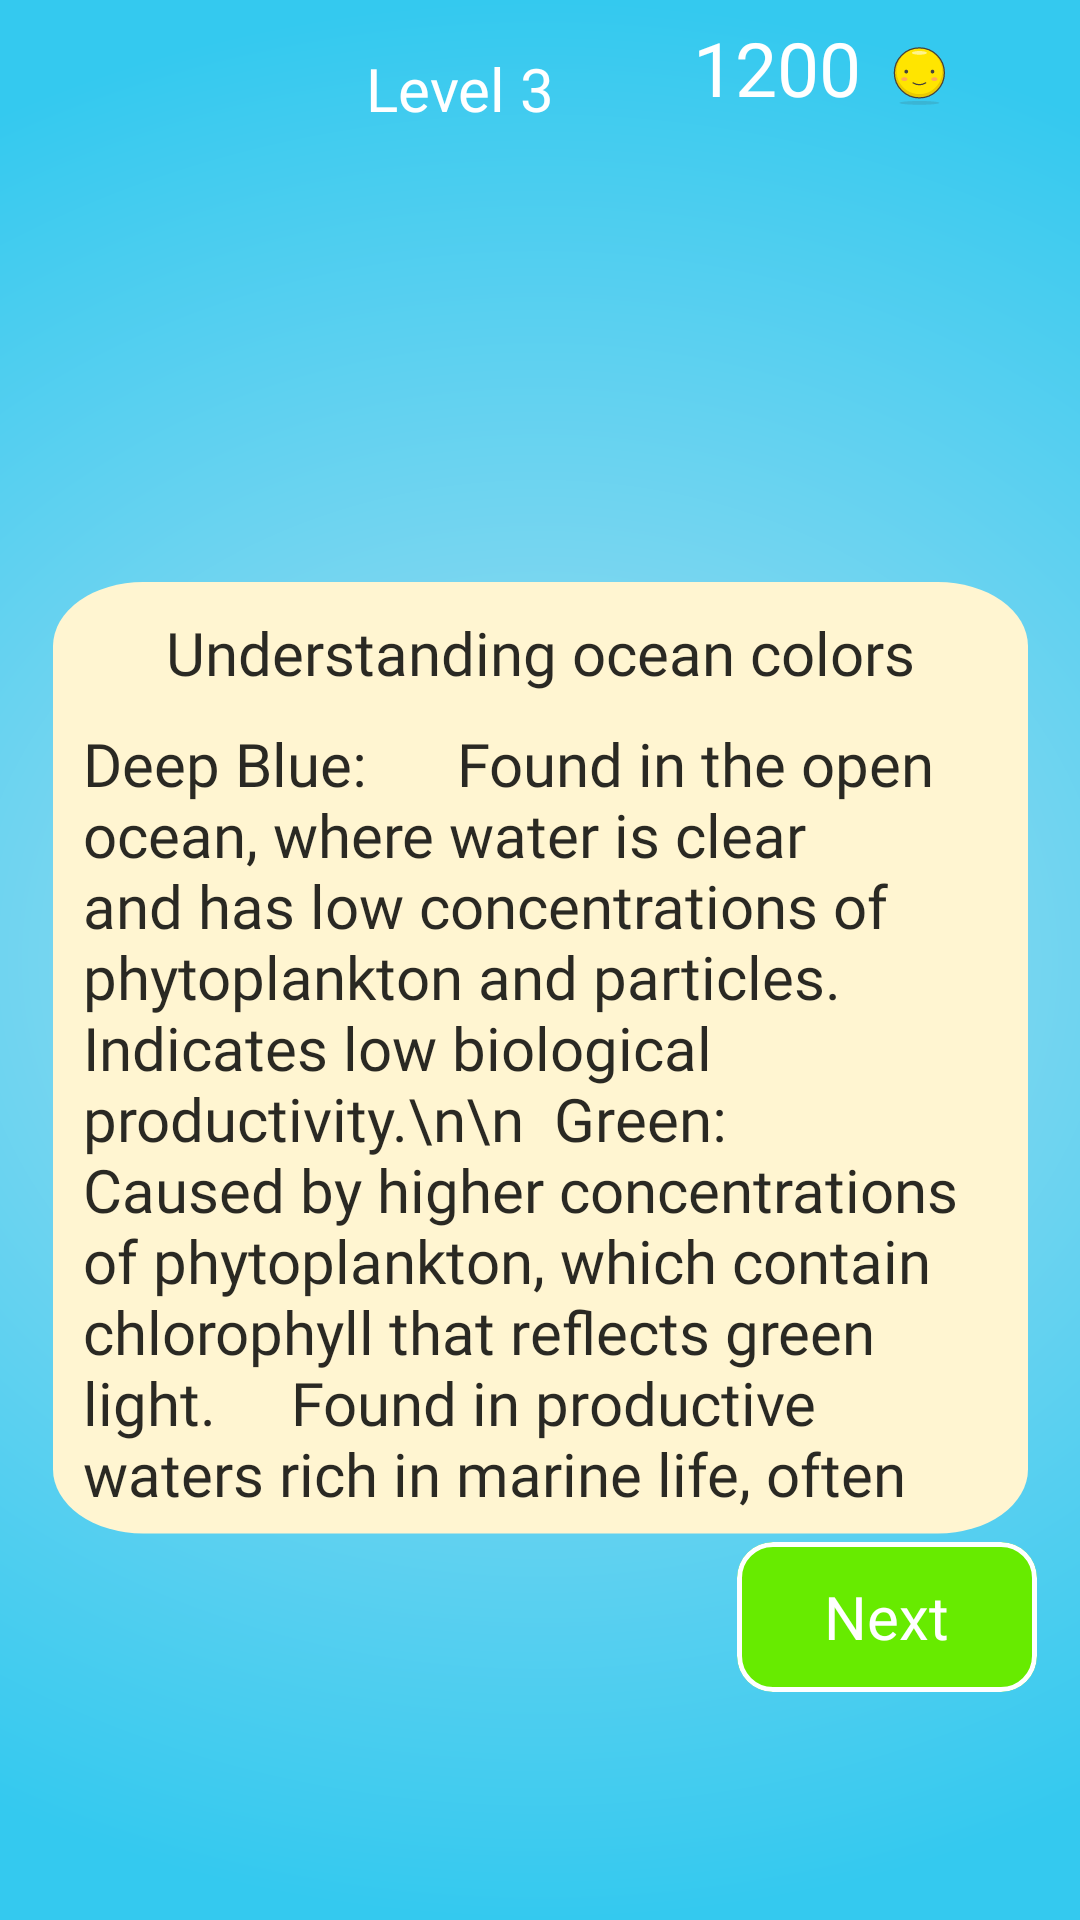

Icons on this 1080*1920 Android screen, each with its box as (x1, y1, x2, y2):
smiley face: (893, 47, 945, 104)
